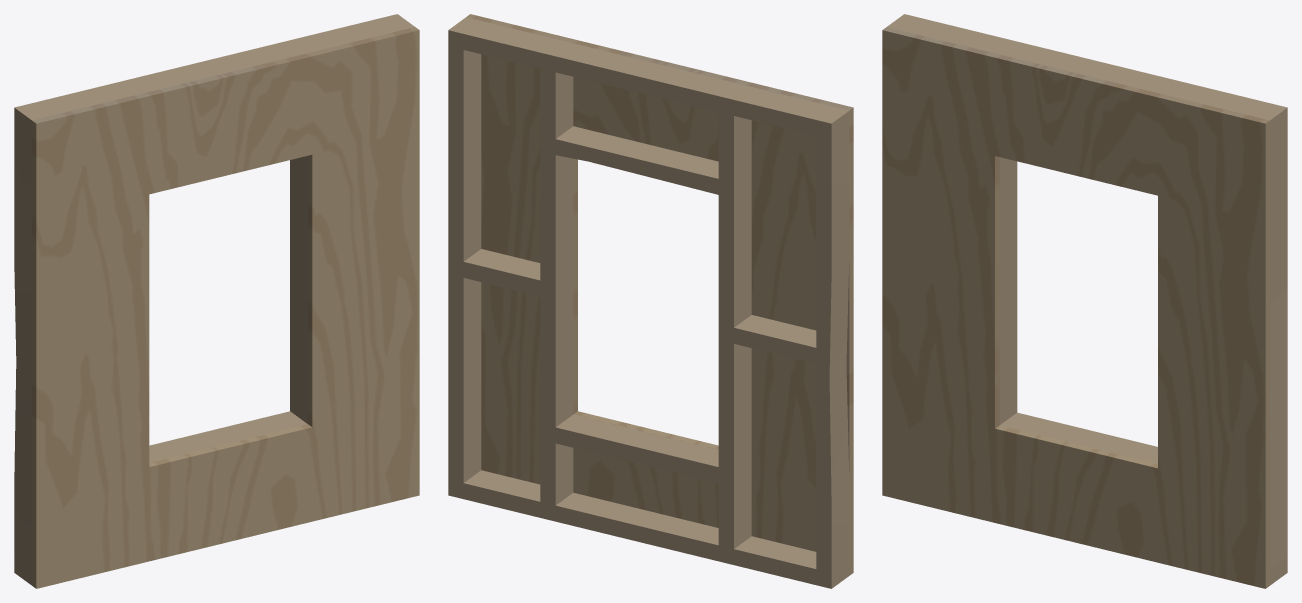
Rendered from SM_Bld_House_Wall_Window_02.fbx.
3 renders of one model, left to right at view 1: azimuth 30°, elevation 25°; view 2: azimuth 150°, elevation 25°; view 3: azimuth 330°, elevation 25°, orthographic.
Parts seen in each view (by area): view 1: SM_Bld_House_Wall_Window_02; view 2: SM_Bld_House_Wall_Window_02; view 3: SM_Bld_House_Wall_Window_02.
Boxes of the visible parts, x1,y1,x2,y2 form: SM_Bld_House_Wall_Window_02: (14,14,419,588); SM_Bld_House_Wall_Window_02: (448,14,853,588); SM_Bld_House_Wall_Window_02: (882,14,1287,588).
Size of the model in its own units: 250 by 290 by 25.
